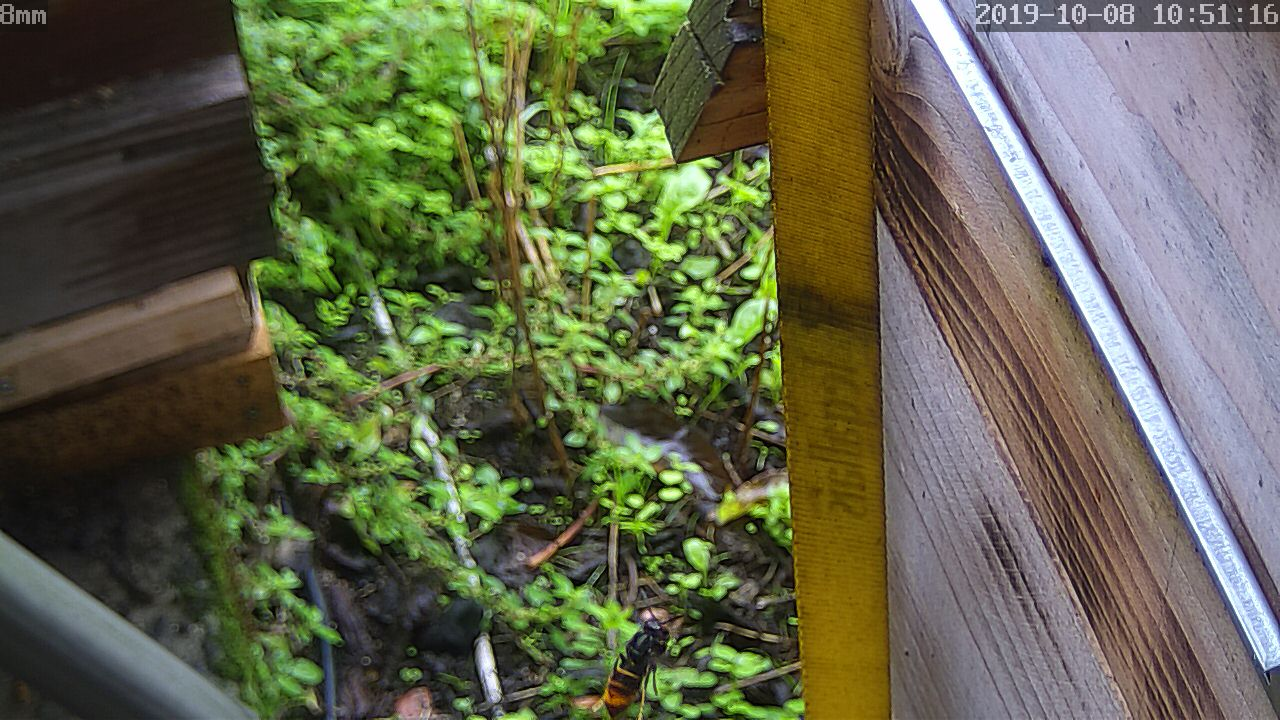hornet: (595, 615, 667, 711)
